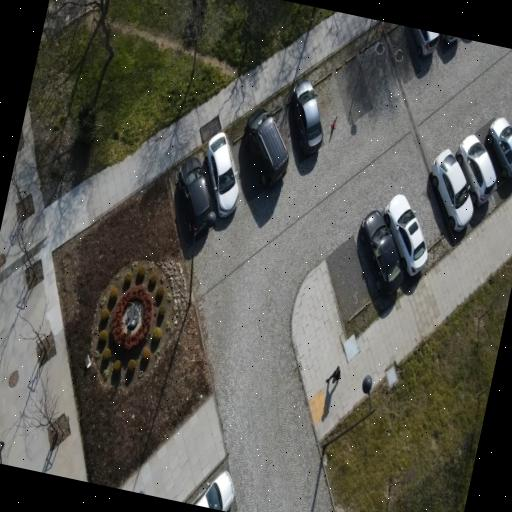harvester: (359, 211, 402, 294), (383, 195, 427, 274), (430, 149, 472, 231), (244, 108, 288, 185), (455, 135, 495, 205), (206, 132, 237, 217), (177, 157, 209, 233), (291, 81, 322, 155), (192, 472, 233, 511), (485, 117, 511, 177), (411, 28, 438, 55), (440, 34, 457, 43)
person: (326, 367, 339, 383)
